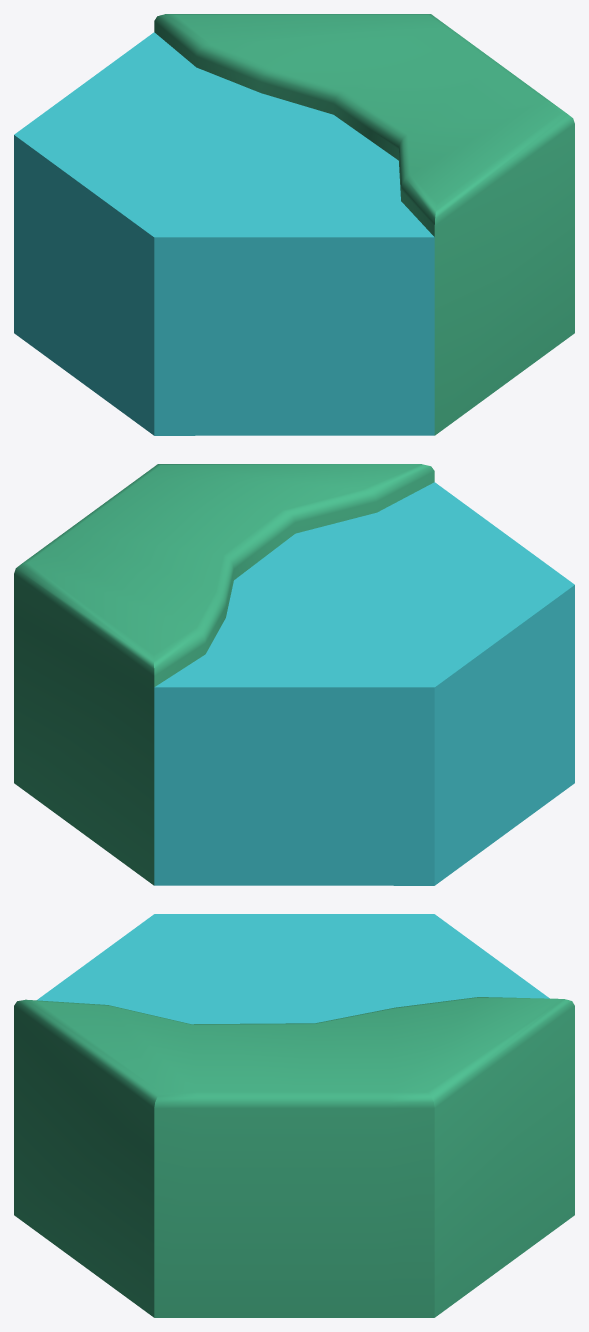
File: hex_forest_waterC.glb
3 views of the same model, one above another, from view 1: azimuth 30°, elevation 25°; view 2: azimuth 150°, elevation 25°; view 3: azimuth 270°, elevation 25° (orthographic).
Visible parts, largest first — view 1: hex_forest_waterC; view 2: hex_forest_waterC; view 3: hex_forest_waterC.
Part boxes in pixels (<box>): hex_forest_waterC: <box>14,14,574,435</box>; hex_forest_waterC: <box>14,464,574,885</box>; hex_forest_waterC: <box>14,914,574,1317</box>.
Size of the model in its own units: 2 by 1 by 2.31.
